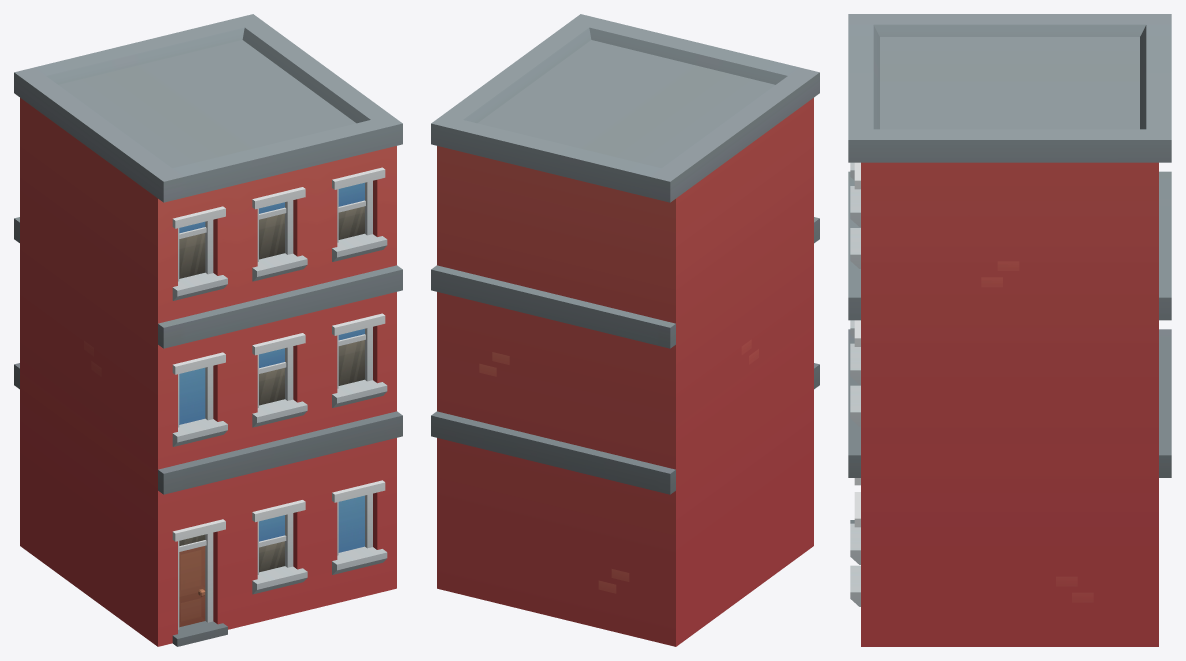
The model's file is city-c.glb.
The picture shows the model from 3 angles, left to right: view 1: azimuth 30°, elevation 25°; view 2: azimuth 150°, elevation 25°; view 3: azimuth 270°, elevation 25°; orthographic projection. The views are drawn at different scales.
Visible parts, largest first — view 1: building_C_withoutBase; view 2: building_C_withoutBase; view 3: building_C_withoutBase.
Boxes of the visible parts, left/top/right/bottom form: building_C_withoutBase: left=14, top=14, right=402, bottom=646; building_C_withoutBase: left=431, top=14, right=819, bottom=646; building_C_withoutBase: left=848, top=14, right=1171, bottom=646.
Bounding box in the file's own units: 1.21 × 2.25 × 1.3.
Materials: 1 (1 with a texture image).
